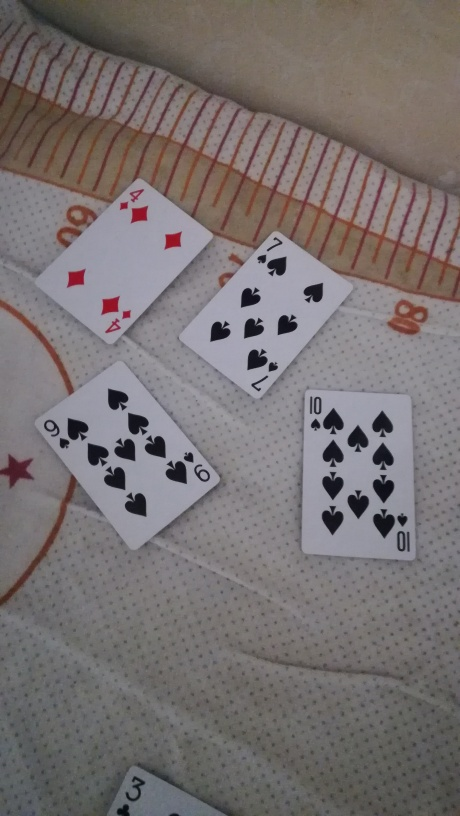fk 4: (35, 153, 208, 359)
ht 10: (295, 378, 435, 578)
ht 7: (181, 226, 349, 394)
ht 9: (23, 364, 226, 559)
